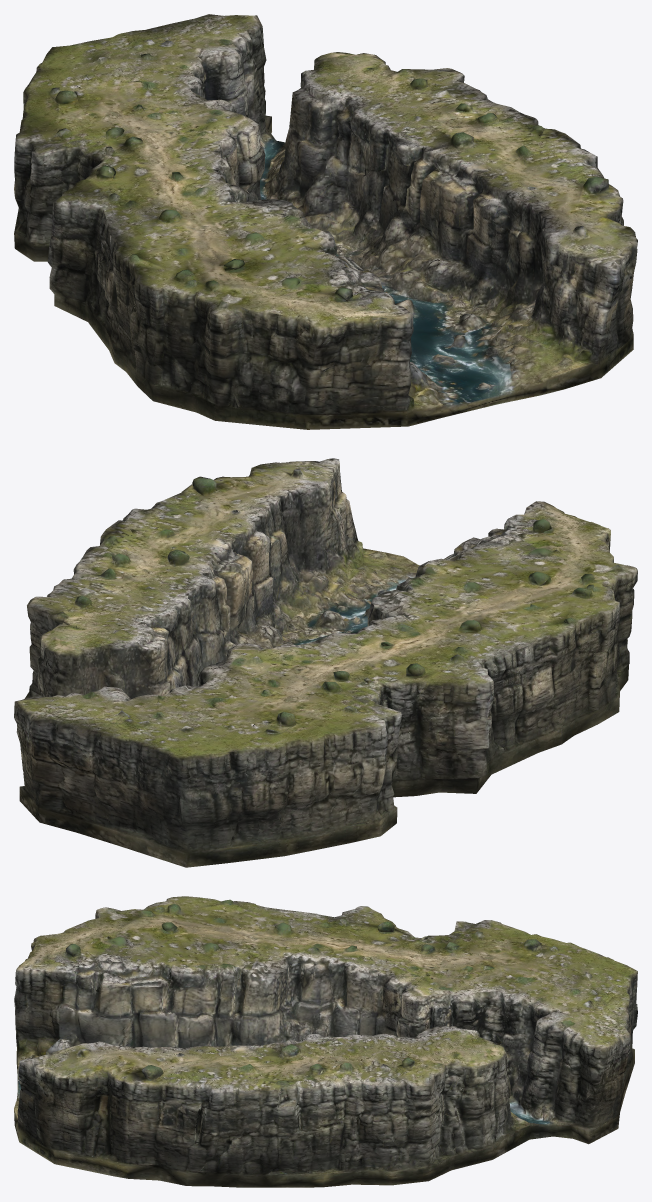
File: city_kars_ani_gorge.glb
3 renders of one model, top to bottom at view 1: azimuth 30°, elevation 25°; view 2: azimuth 150°, elevation 25°; view 3: azimuth 270°, elevation 25°, orthographic. The views are drawn at different scales.
Visible parts, largest first — view 1: Mesh1.0; view 2: Mesh1.0; view 3: Mesh1.0.
Part boxes in pixels (box(x1,y1,x2,y2)): Mesh1.0: box(14, 14, 637, 429); Mesh1.0: box(14, 458, 637, 867); Mesh1.0: box(14, 896, 637, 1187).
Size of the model in its own units: 47.87 by 12 by 63.66.
1 material, 1 textured.
